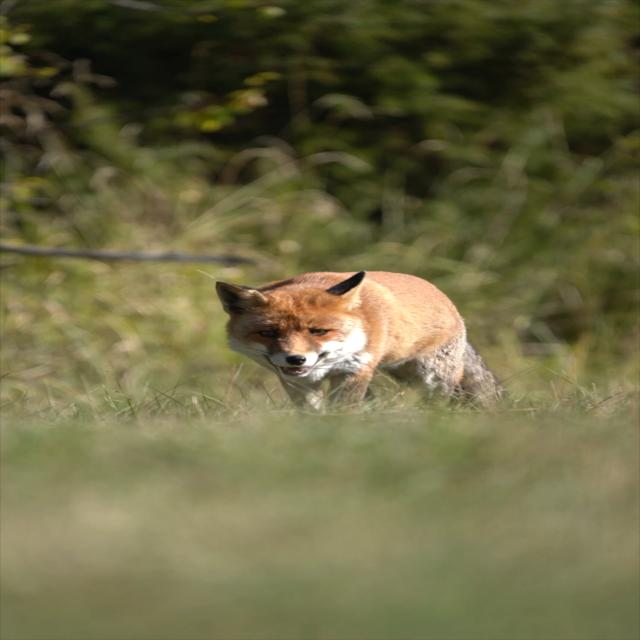fox: (176, 260, 569, 422)
